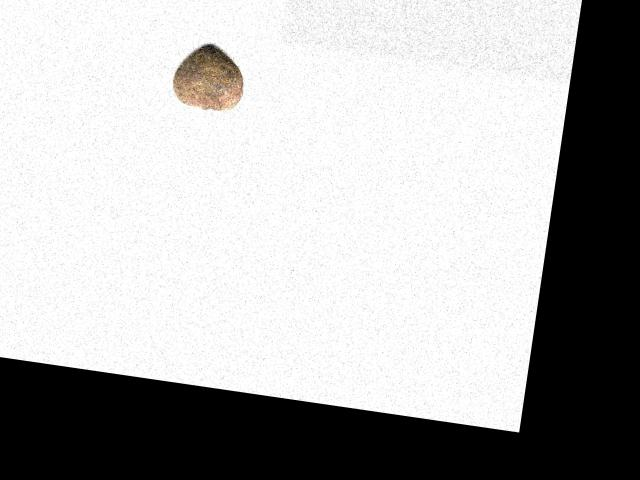beet: (169, 40, 249, 113)
